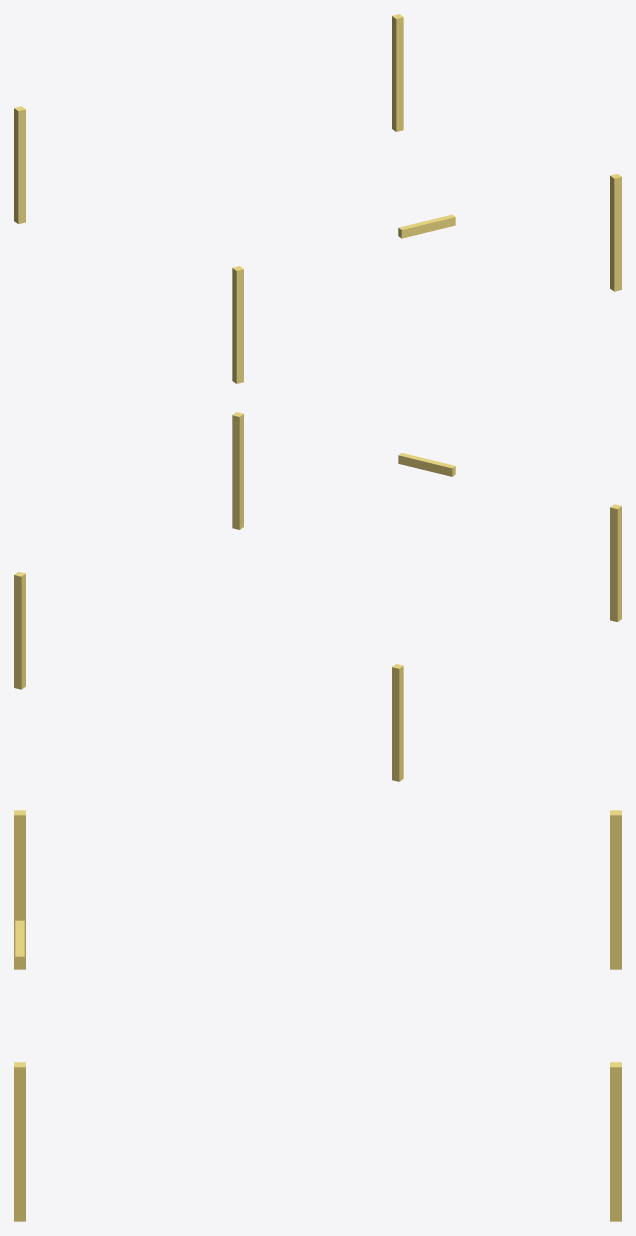
Rendered from accent-1.glb.
The picture shows the model from 3 angles, top to bottom: view 1: azimuth 30°, elevation 25°; view 2: azimuth 150°, elevation 25°; view 3: azimuth 270°, elevation 25°; orthographic projection. The views are drawn at different scales.
Visible parts, largest first — view 1: accent-1; view 2: accent-1; view 3: accent-1.
Part boxes in pixels (bbox=[...]): accent-1: bbox=[14, 14, 621, 383]; accent-1: bbox=[14, 412, 621, 781]; accent-1: bbox=[14, 810, 621, 1221].
Bounding box in the file's own units: 14.28 × 4 × 14.28.
Materials: 1 (1 with a texture image).
